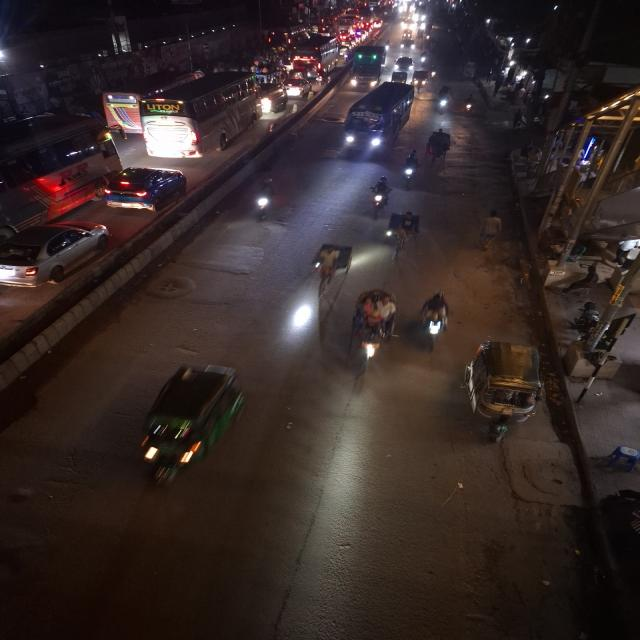bus: (138, 70, 258, 160), (0, 113, 119, 202), (338, 81, 418, 159), (100, 86, 146, 134), (292, 37, 340, 79)
car: (0, 218, 113, 292), (102, 163, 188, 214), (257, 82, 290, 117), (282, 78, 312, 100), (392, 54, 416, 76)
cng: (130, 361, 252, 491), (462, 338, 552, 447)
motorcycle: (418, 286, 453, 354), (246, 173, 282, 225), (366, 174, 392, 218), (399, 148, 422, 190), (435, 82, 454, 114), (460, 94, 478, 118)
pedestrian: (474, 208, 506, 252)
pickup_van: (383, 209, 424, 252)
rickshaw: (348, 286, 399, 370), (312, 238, 351, 299), (425, 125, 455, 165)
truck: (349, 43, 387, 91)
